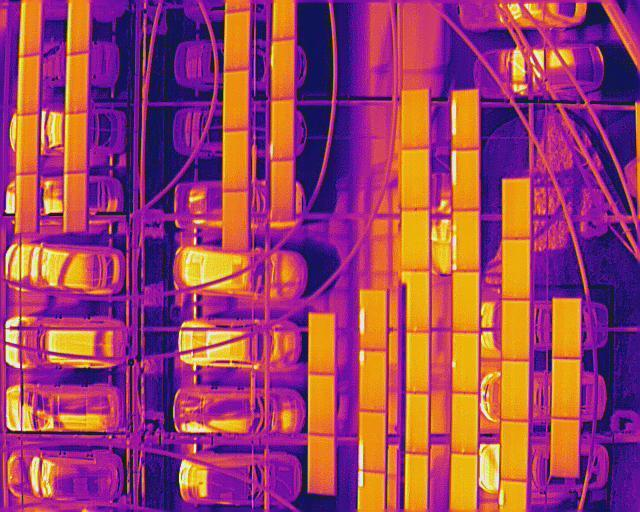Cell: (451, 333, 479, 392)
No-Anomaly: (400, 145, 428, 211), (551, 359, 581, 419), (550, 417, 580, 477), (500, 360, 529, 420), (502, 177, 530, 239), (308, 371, 335, 435), (501, 239, 529, 300), (553, 298, 581, 359), (307, 434, 335, 495), (222, 125, 247, 193), (452, 271, 480, 331), (402, 207, 428, 271), (307, 314, 335, 373), (502, 300, 529, 361), (401, 88, 428, 148), (223, 9, 250, 69), (451, 393, 477, 454), (500, 420, 526, 480), (405, 270, 430, 332), (223, 189, 247, 253), (405, 333, 430, 394), (404, 453, 429, 512), (64, 170, 87, 234), (65, 50, 88, 113), (18, 53, 41, 116), (223, 68, 246, 130), (270, 162, 294, 221), (406, 393, 429, 454), (271, 38, 293, 101), (65, 110, 86, 174), (271, 99, 293, 160), (17, 116, 38, 178), (66, 0, 88, 57), (20, 0, 41, 57), (16, 175, 36, 232)
Unclassified: (359, 349, 388, 411), (450, 90, 478, 150), (359, 411, 387, 471), (452, 147, 479, 209), (359, 290, 387, 349), (452, 211, 478, 271)
